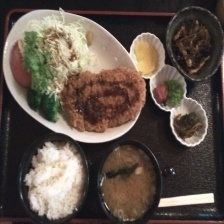dal: (96, 140, 163, 224)
